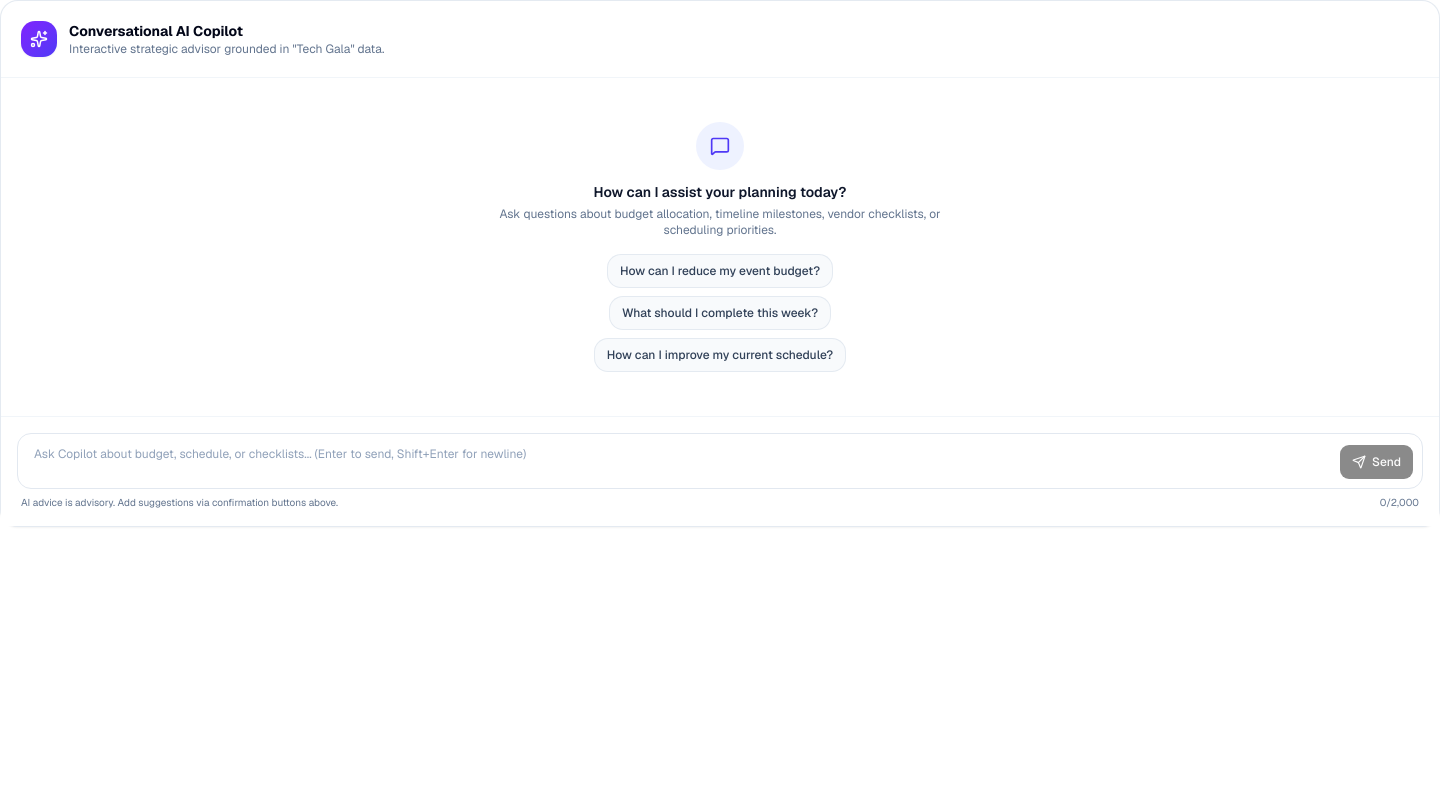
Test: CopilotChatCard Component › Assistant Responses & Suggestion Proposals › renders assistant reply and proposal cards for tasks and budget items
The image size is (1440, 810).
Type "Plan AV details" into the text box named "Ask the Copilot a planning question".
click(678, 461); type("Plan AV details")  # box x1=26 y1=442 x2=1331 y2=480
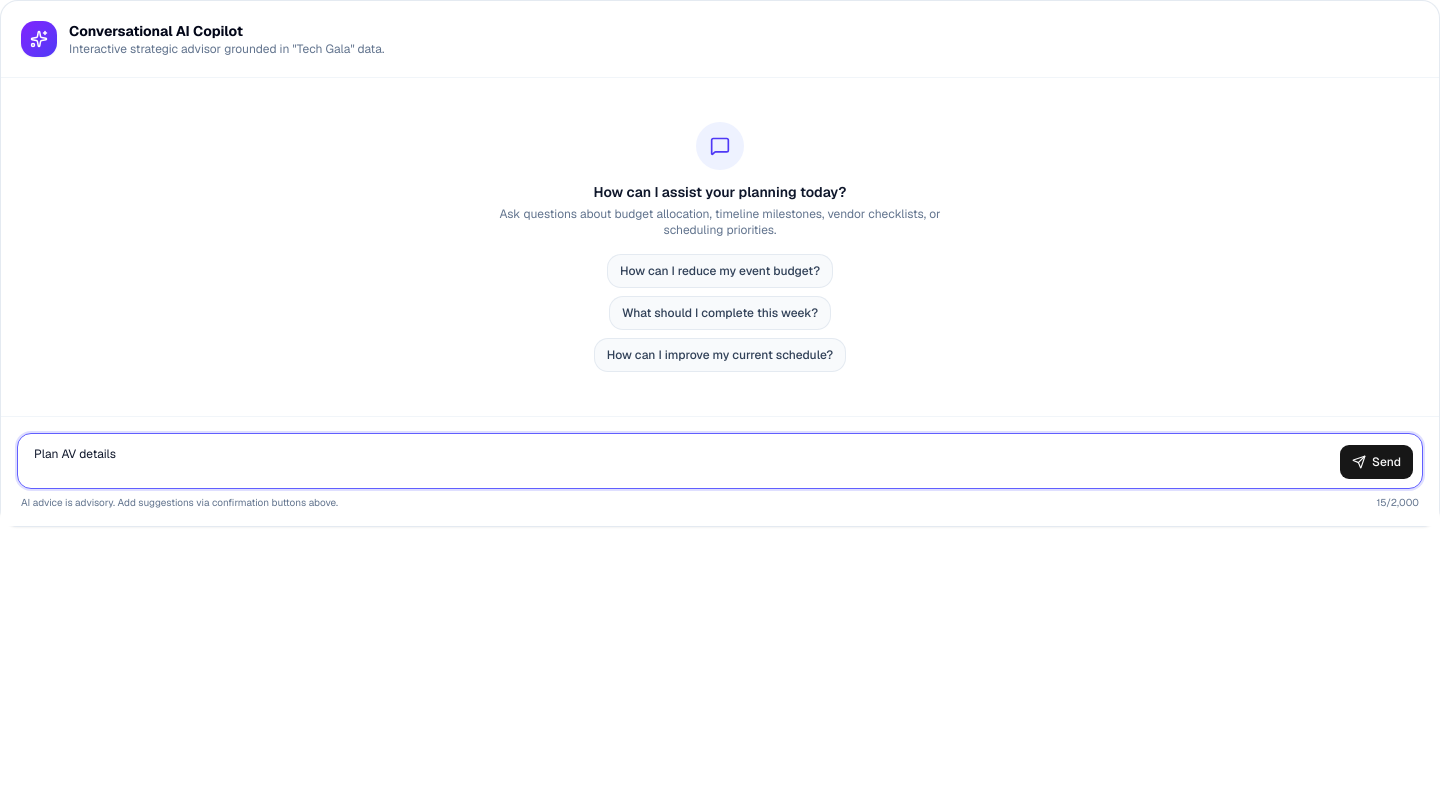
Click the button "Send".
click(1376, 462)  # box x1=1339 y1=444 x2=1414 y2=480
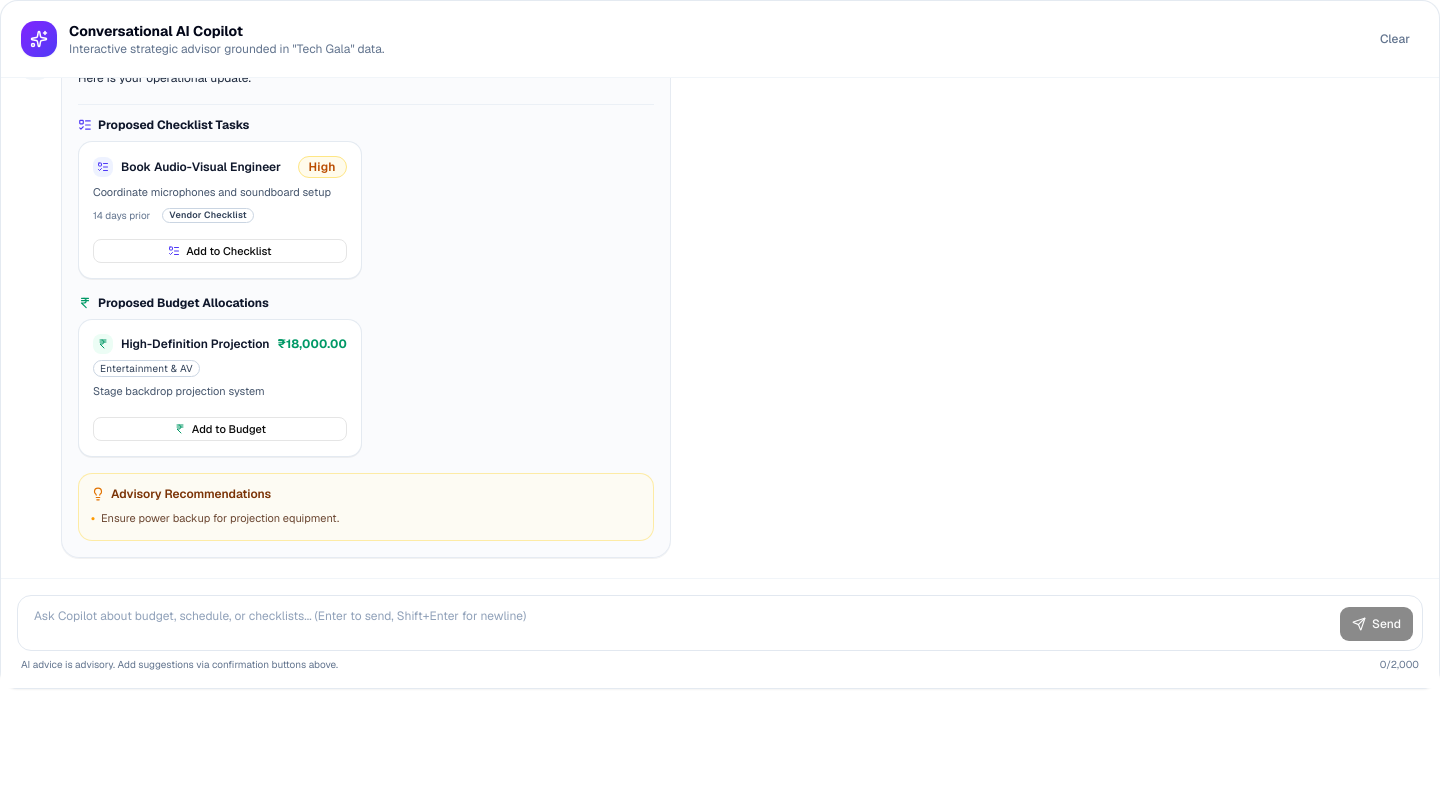
Expected: the text "Proposed Checklist Tasks" is shown, x1=98 y1=117 x2=250 y2=133
Expected: the heading "Book Audio-Visual Engineer" is shown, x1=121 y1=159 x2=281 y2=175
Expected: the text "Proposed Budget Allocations" is shown, x1=98 y1=295 x2=269 y2=311
